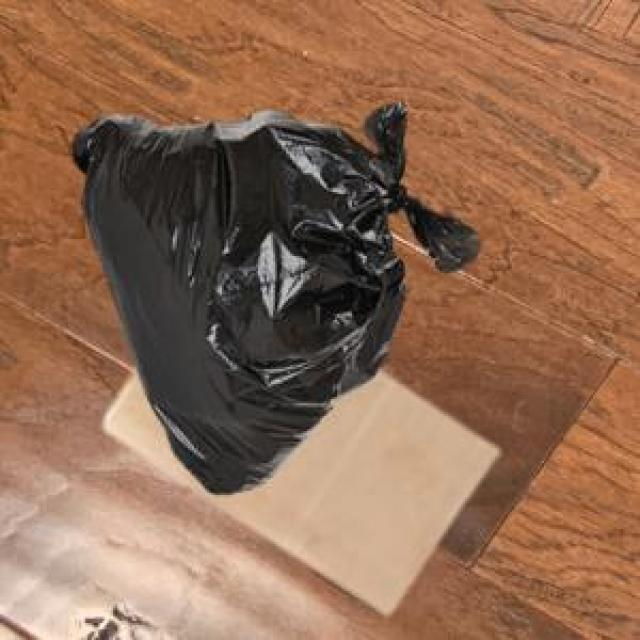miscellaneous trash: (68, 98, 476, 489)
paper: (100, 364, 493, 608)
